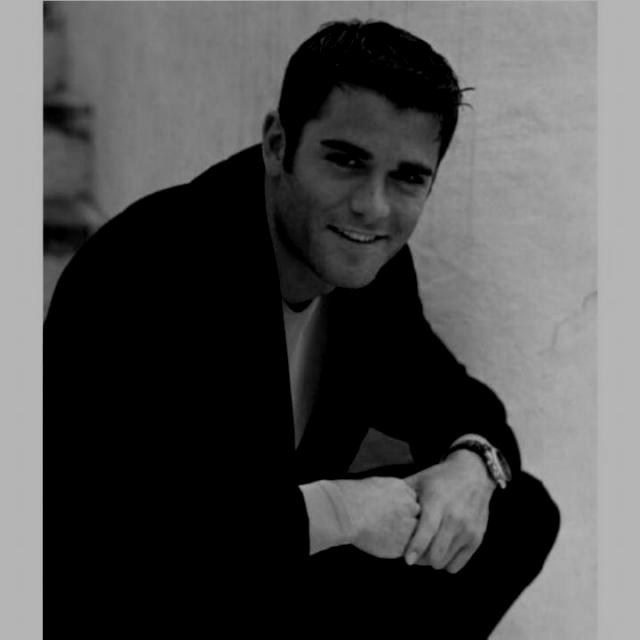real: (272, 39, 454, 297)
